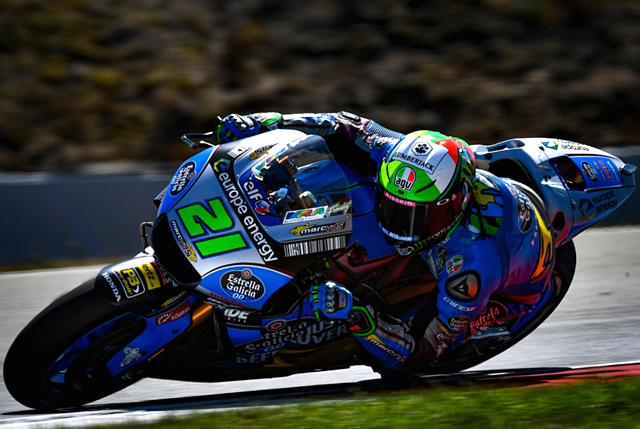helmet: (367, 122, 482, 258)
